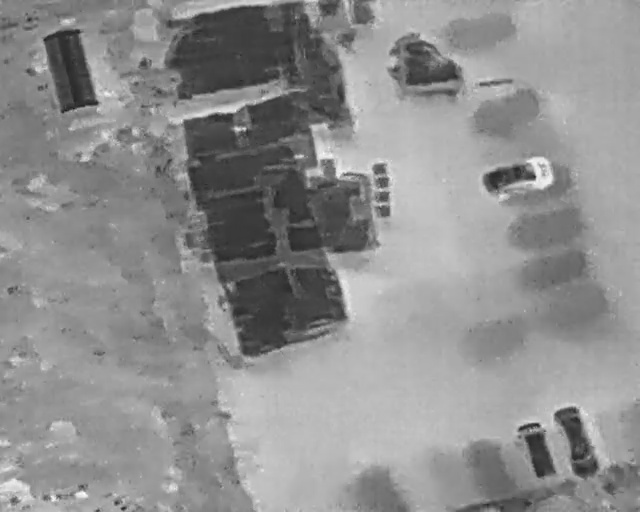Car: (549, 401, 603, 483), (479, 152, 556, 204), (513, 417, 558, 483)
